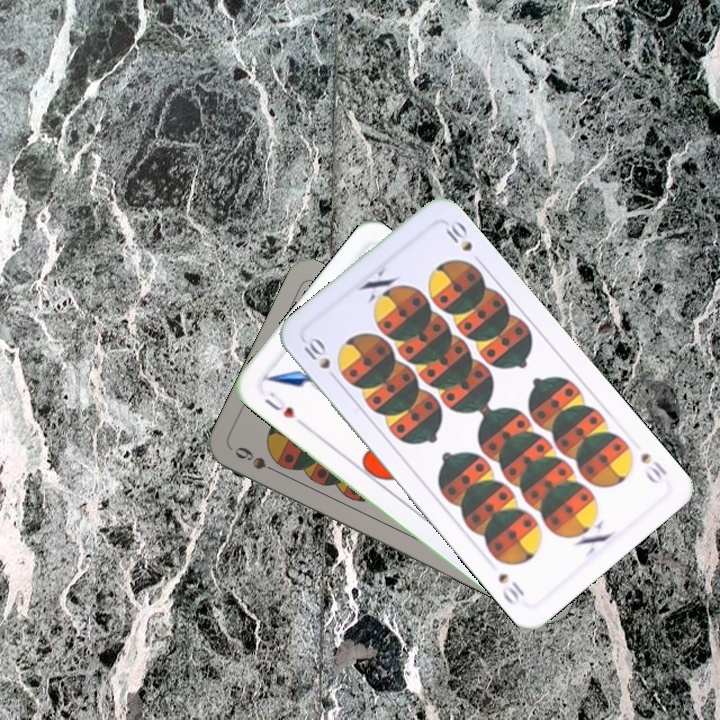HU: (260, 387, 298, 421)
S10: (299, 332, 333, 372), (636, 448, 670, 487)
S9: (230, 442, 287, 478)
